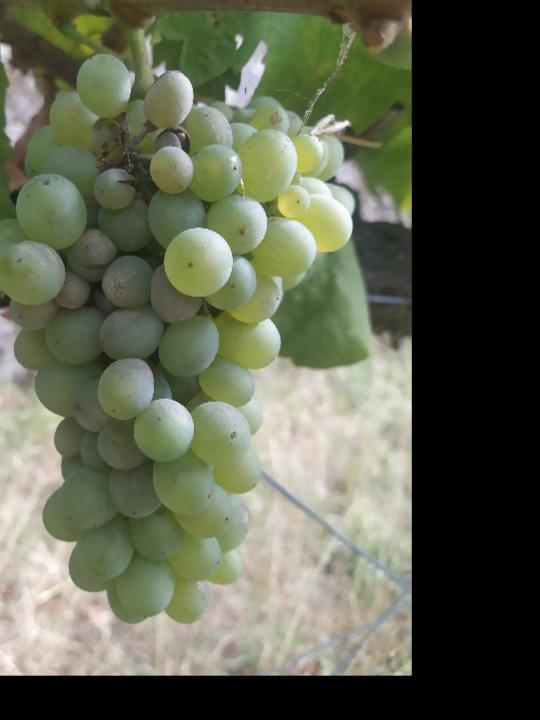grape: (0, 46, 356, 625)
